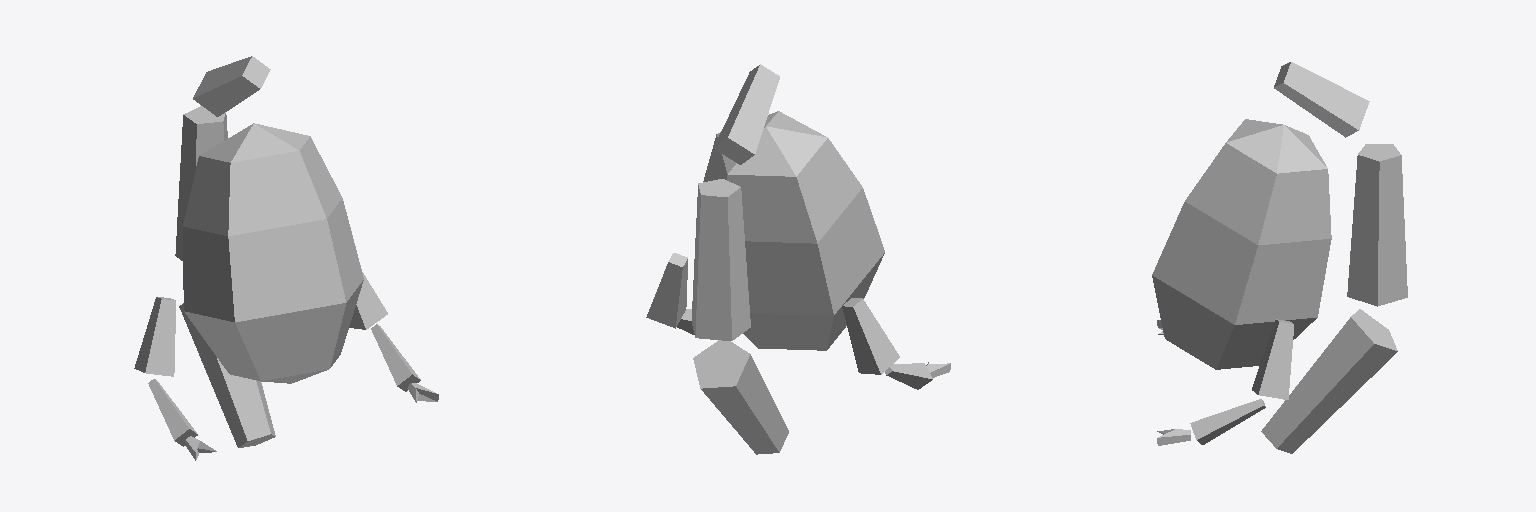
File: Aeg.obj
The picture shows the model from 3 angles: view 1: azimuth 30°, elevation 25°; view 2: azimuth 150°, elevation 25°; view 3: azimuth 270°, elevation 25°; orthographic projection.
Parts seen in each view (by area): view 1: Body_Cone.002, RightArm_0_Cone.001, Spine_0_Cylinder, Spine_1_Cylinder.001, Spine_2_Cone; view 2: Body_Cone.002, Spine_1_Cylinder.001, Spine_0_Cylinder, RightArm_0_Cone.001, Spine_2_Cone; view 3: Body_Cone.002, Spine_1_Cylinder.001, Spine_0_Cylinder, RightArm_0_Cone.001, Spine_2_Cone.
Part boxes in pixels (bbox=[...]): Body_Cone.002: bbox=[183, 123, 363, 383]; RightArm_0_Cone.001: bbox=[134, 272, 438, 460]; Spine_0_Cylinder: bbox=[179, 303, 275, 447]; Spine_1_Cylinder.001: bbox=[175, 106, 227, 260]; Spine_2_Cone: bbox=[193, 56, 270, 116]; Body_Cone.002: bbox=[703, 111, 884, 350]; Spine_1_Cylinder.001: bbox=[692, 179, 750, 340]; Spine_0_Cylinder: bbox=[693, 340, 788, 454]; RightArm_0_Cone.001: bbox=[646, 253, 950, 389]; Spine_2_Cone: bbox=[713, 64, 779, 164]; Body_Cone.002: bbox=[1152, 119, 1331, 369]; Spine_1_Cylinder.001: bbox=[1347, 144, 1407, 306]; Spine_0_Cylinder: bbox=[1261, 309, 1397, 453]; RightArm_0_Cone.001: bbox=[1157, 319, 1293, 445]; Spine_2_Cone: bbox=[1274, 62, 1369, 137].
Size of the model in its own units: 1.02 by 1.54 by 0.9154.